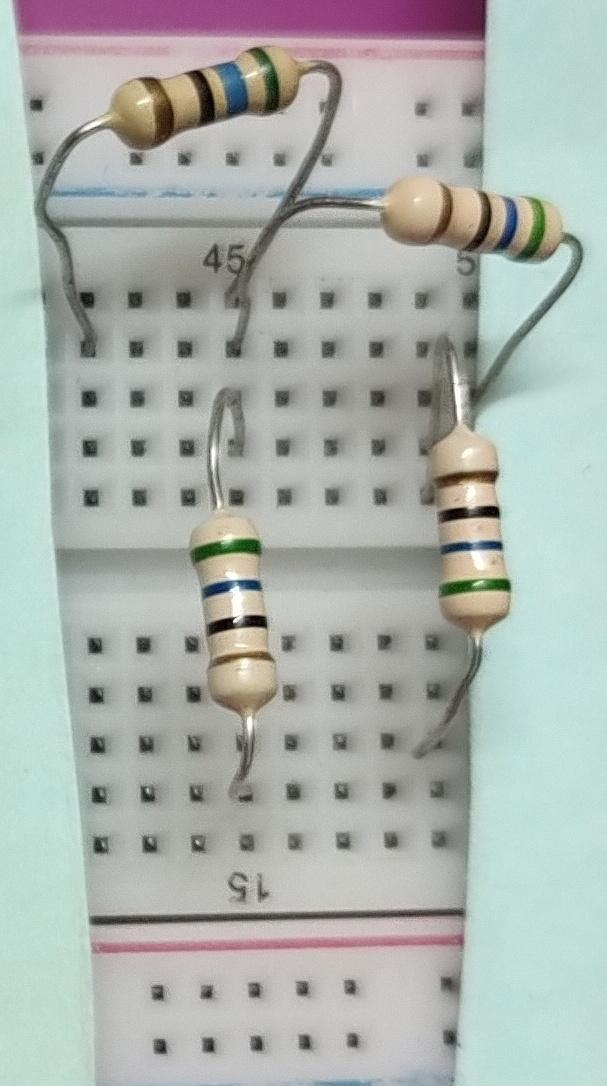resistor: (107, 25, 304, 171), (167, 497, 292, 722), (417, 419, 528, 643), (379, 167, 567, 278)
